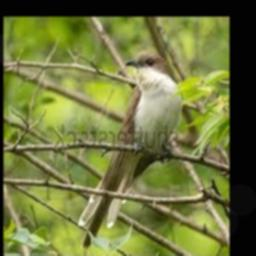Cuckoo: (77, 51, 181, 247)
